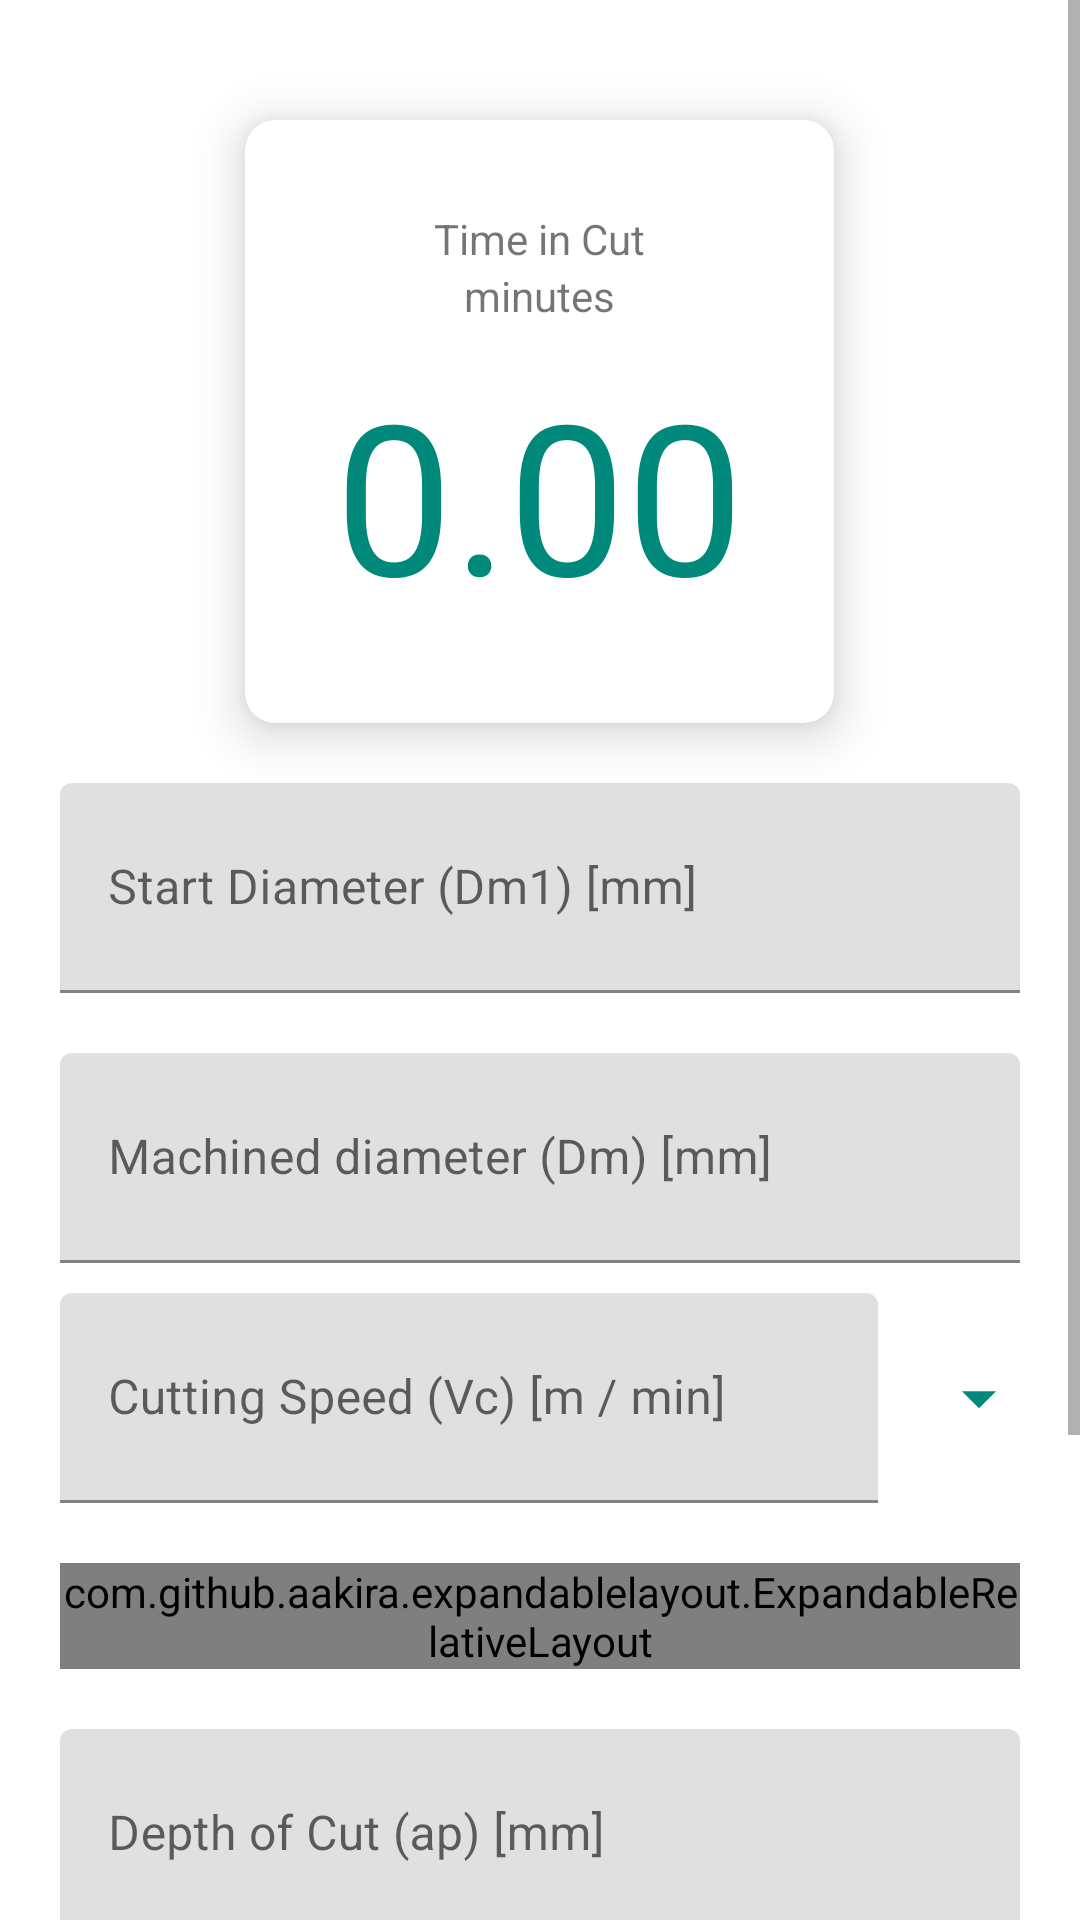

Point at icon controls on the screen. Image size 1080x1920, points as (x=x, y=y).
arrow drop down: (x=979, y=1399)
